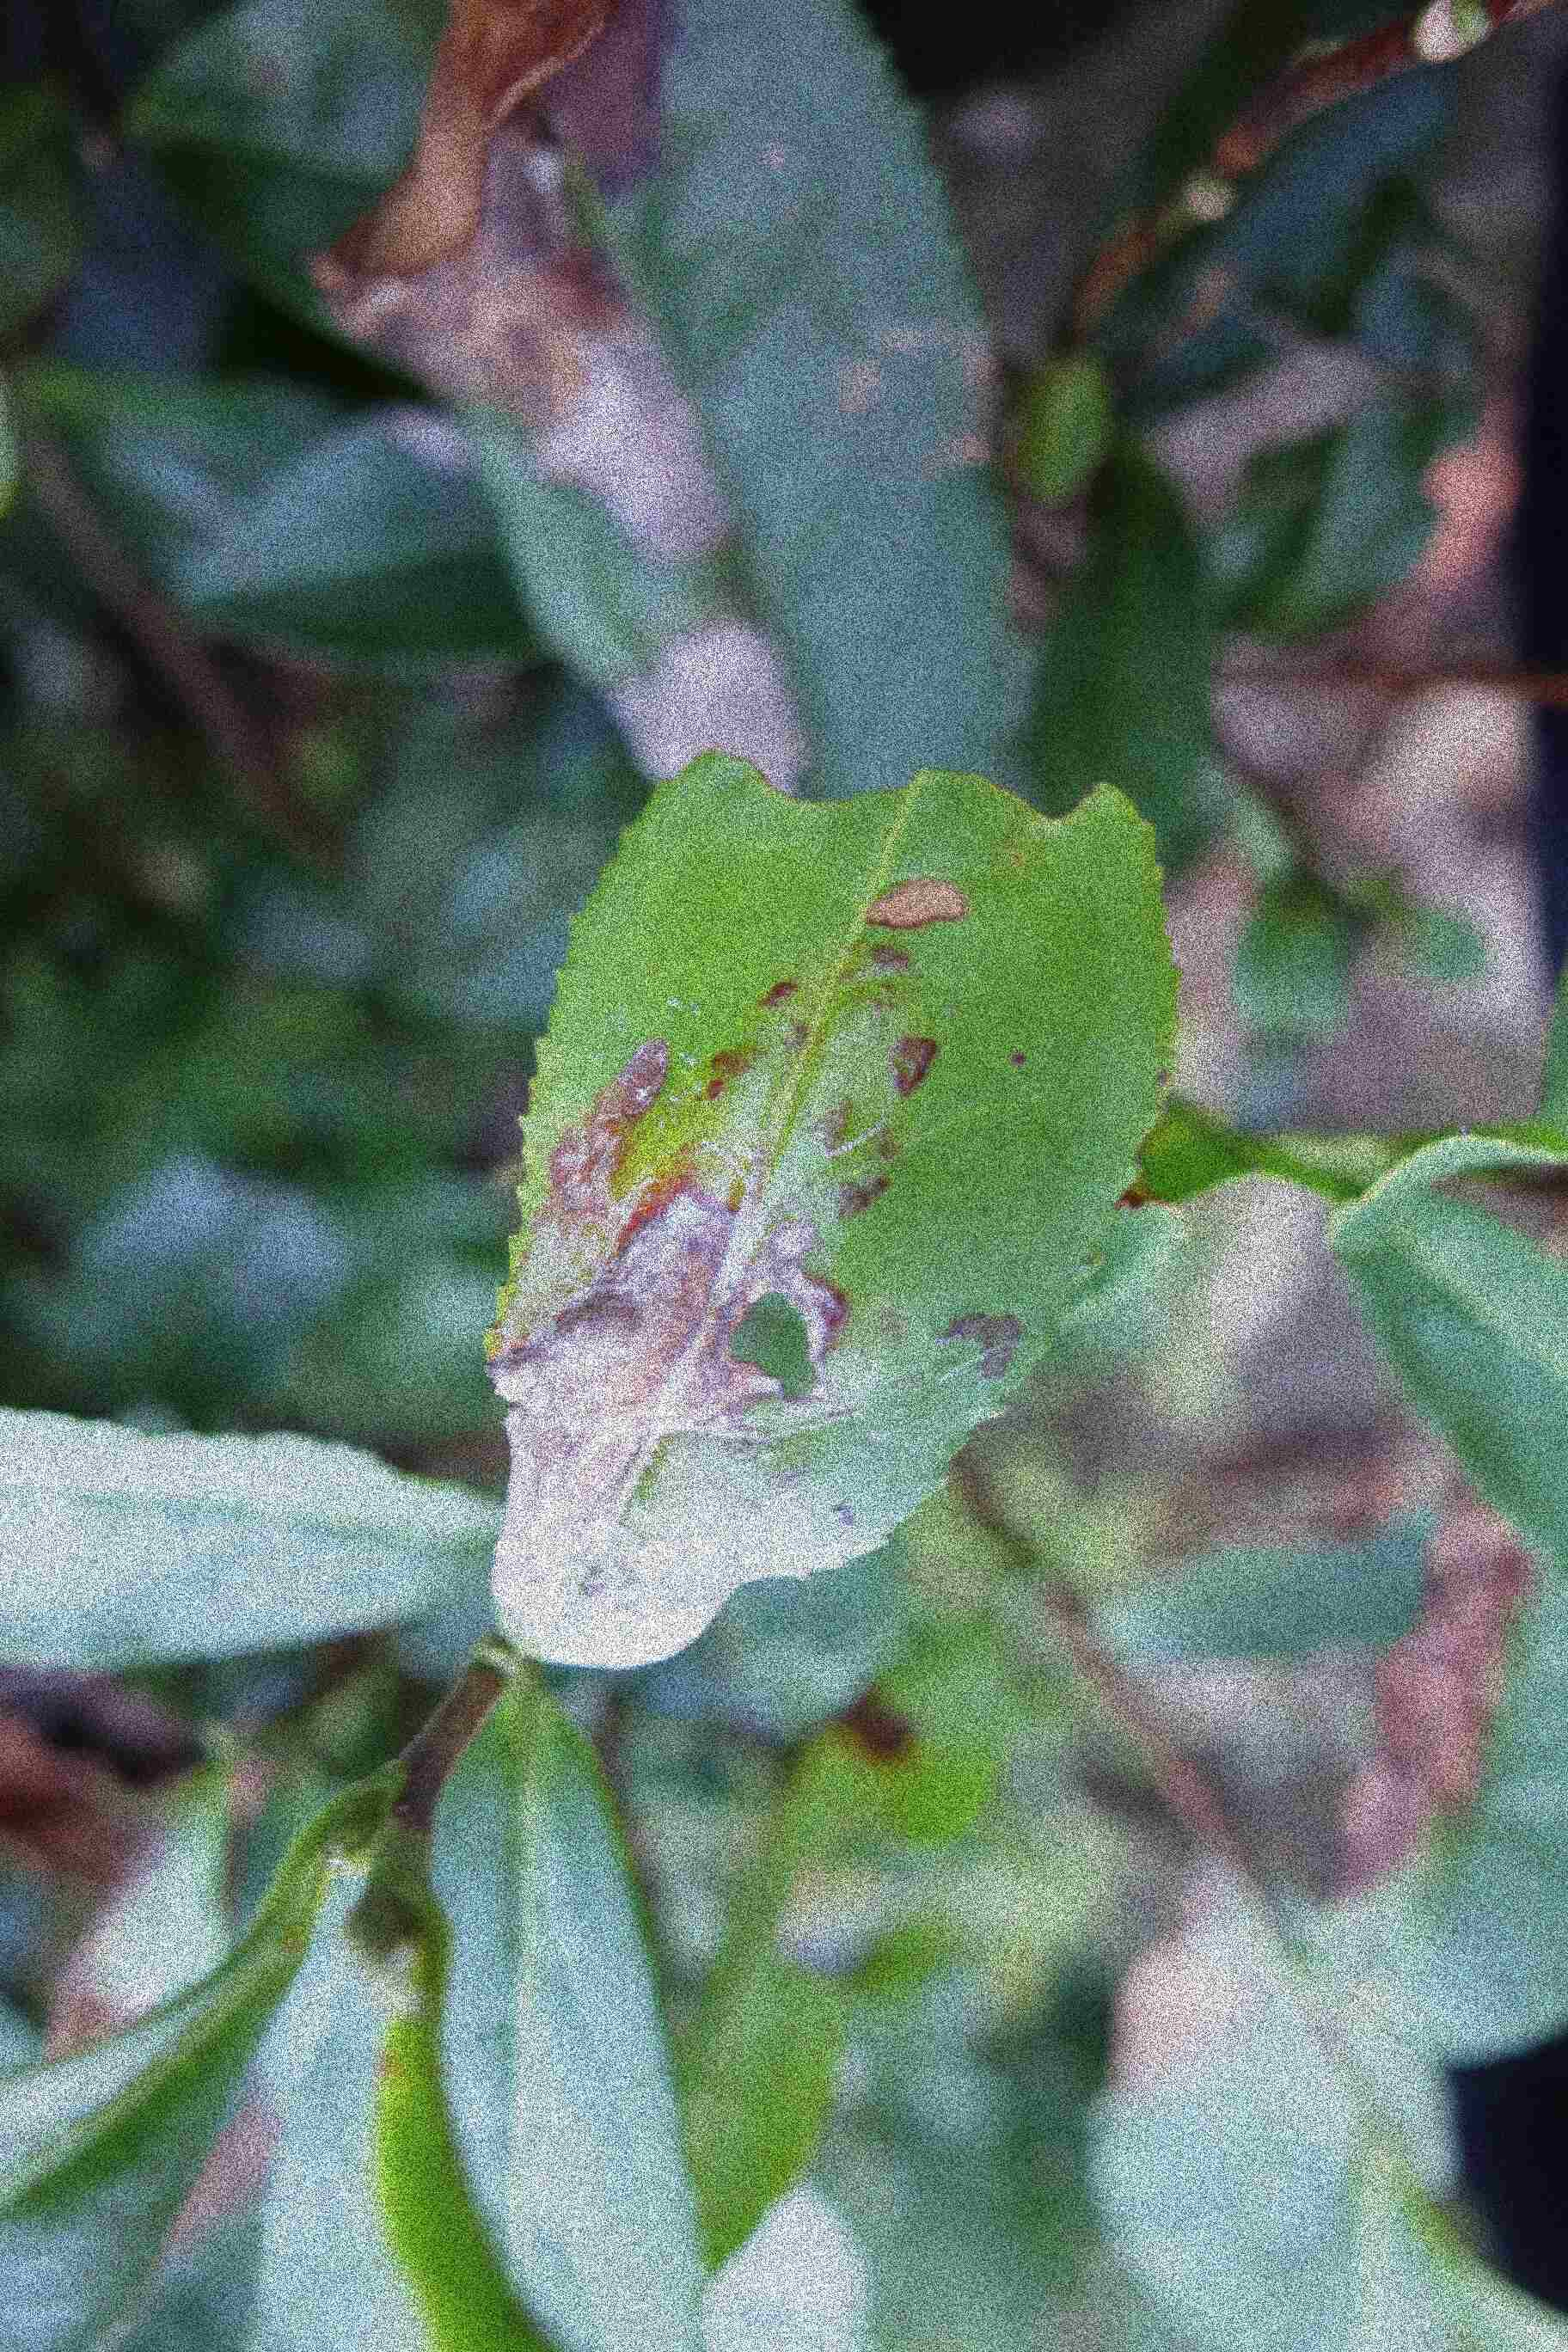tanju_high: (479, 745, 1186, 1685)
